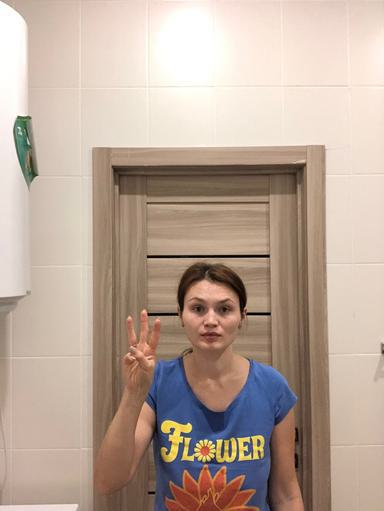three: (121, 308, 164, 396)
